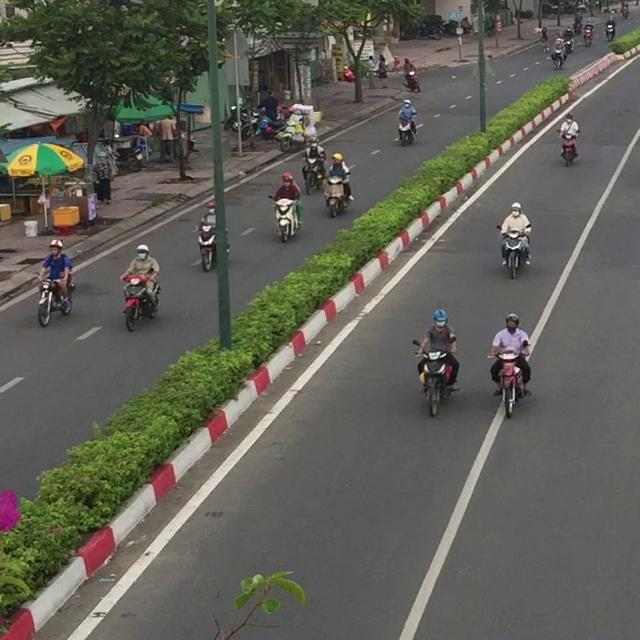Motorcycle: (412, 338, 459, 417), (487, 345, 530, 418), (121, 272, 161, 332), (35, 272, 75, 327), (495, 224, 531, 279), (194, 218, 230, 272), (267, 194, 303, 243), (323, 163, 355, 218), (302, 153, 325, 195), (556, 128, 580, 166), (395, 116, 416, 147), (403, 71, 421, 93), (551, 48, 567, 71), (562, 37, 574, 55), (583, 28, 594, 47), (605, 23, 615, 42)
